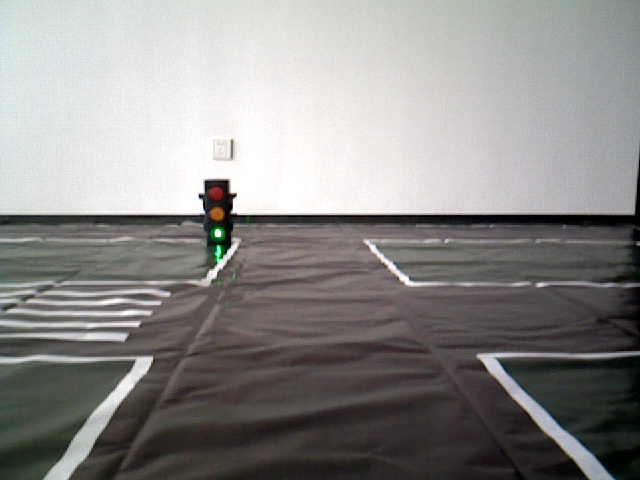green: (204, 181, 229, 242)
